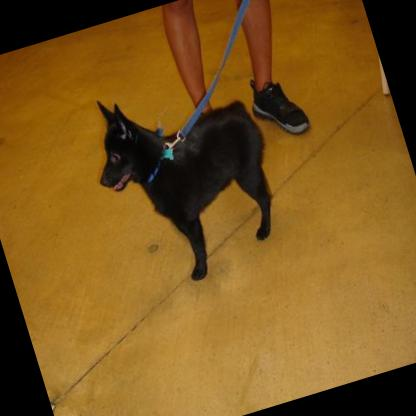schipperke: (69, 48, 301, 300)
